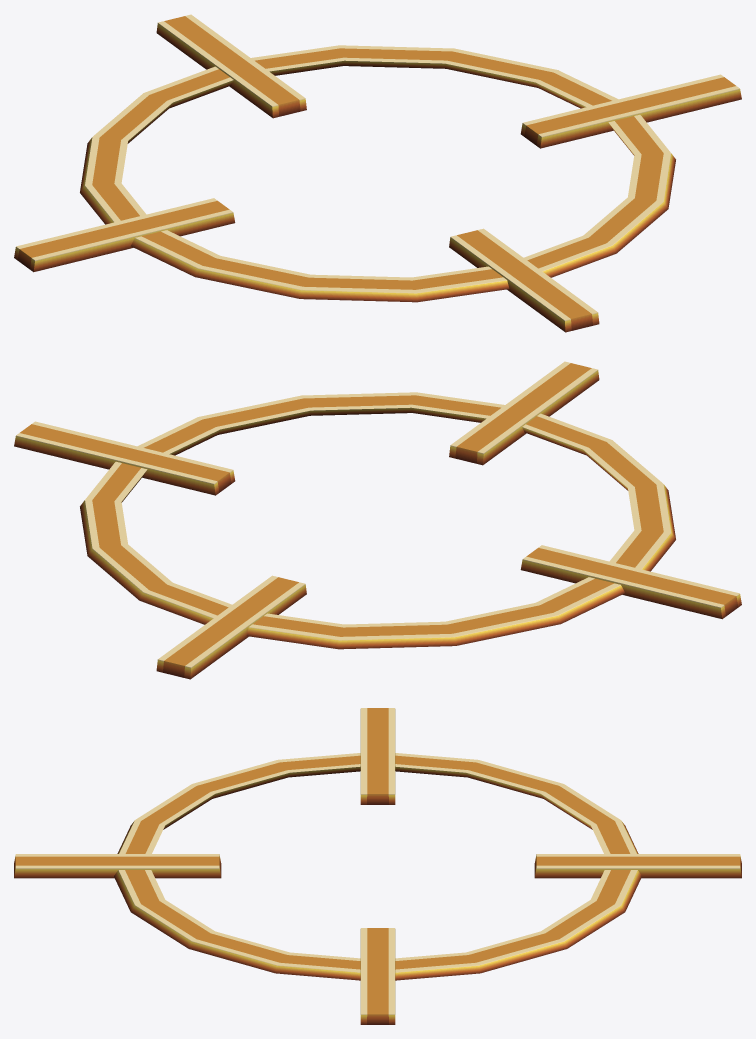
The model's file is Zeus_Target (1).fbx.
The picture shows the model from 3 angles, top to bottom: view 1: azimuth 30°, elevation 25°; view 2: azimuth 150°, elevation 25°; view 3: azimuth 270°, elevation 25°; orthographic projection. The views are drawn at different scales.
Parts seen in each view (by area): view 1: Target; view 2: Target; view 3: Target.
Boxes of the visible parts, bbox=[...] form: Target: bbox=[14, 14, 741, 332]; Target: bbox=[14, 361, 741, 679]; Target: bbox=[14, 708, 741, 1024].
Bounding box in the file's own units: 3.74 × 0.0566 × 3.74.
